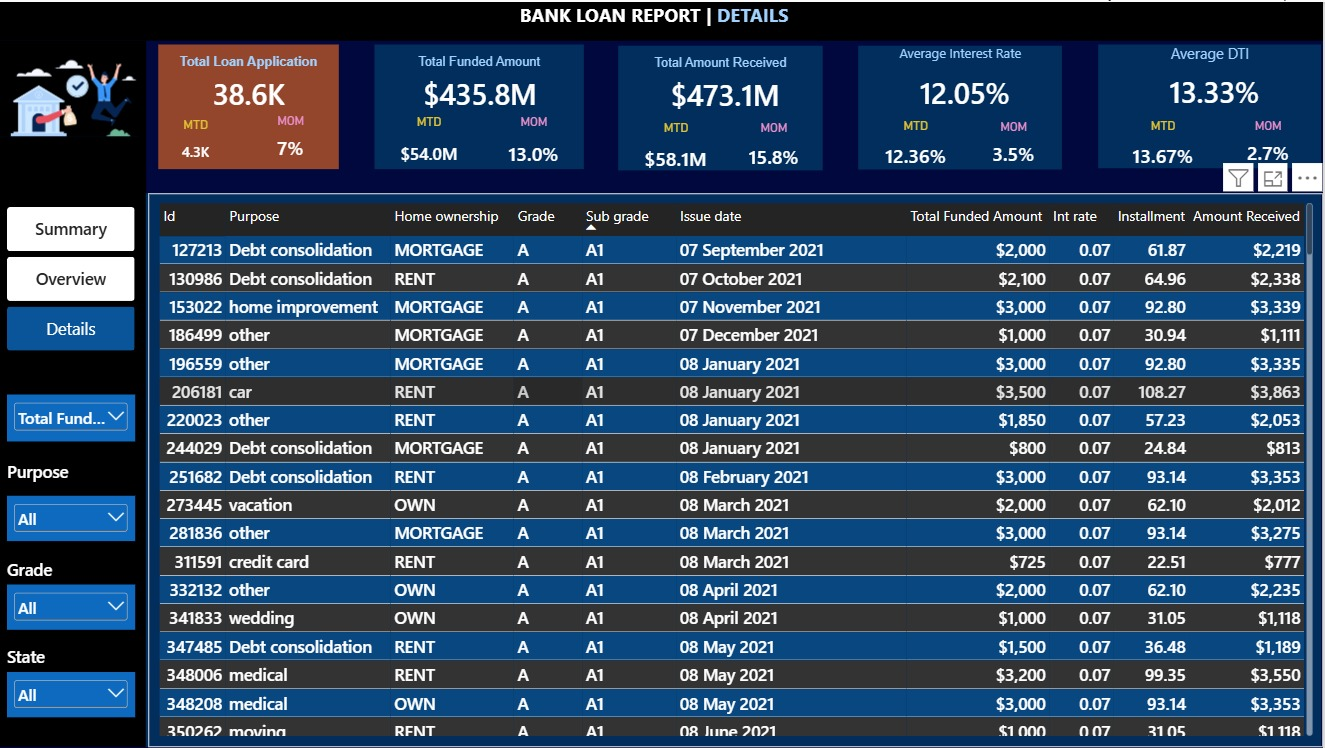

Layout of this report page (visuals, bound fields, positions):
{"tool":"powerbi","page":{"name":"Details","canvas":[1920,1080],"ordinal":2},"visuals":[{"type":"shape","box":[0,0,1920,56],"z":0},{"type":"shape","box":[0,56.8,216.2,1022.3],"z":1000},{"type":"shape","box":[216.2,277.4,1701.6,801.6],"z":2000},{"type":"textbox","box":[586,0,730,56],"z":3000},{"type":"shape","box":[1593.7,61.3,322.6,179.2],"z":3000,"group":"g5"},{"type":"shape","box":[233.7,61.4,261.4,180.4],"z":3000,"group":"g1"},{"type":"shape","box":[1246.7,62,294.9,179.2],"z":3000,"group":"g4"},{"type":"shape","box":[545.9,62.1,303,180.4],"z":3000,"group":"g2"},{"type":"shape","box":[899.8,62.9,296.1,180.4],"z":3000,"group":"g3"},{"type":"group","id":"g1","title":"Group 1","box":[233.7,61.4,261.4,180.4],"z":4000},{"type":"cardVisual","fields":{"Data":["financial_loan.Total Loan Applicaton"]},"box":[254.2,101.5,222.8,60.1],"z":4000,"group":"g1"},{"type":"cardVisual","fields":{"Data":["financial_loan.Total Funded Amount"]},"box":[569.6,102.2,258.2,60.1],"z":4000,"group":"g2"},{"type":"cardVisual","fields":{"Data":["financial_loan.Average Debt to incom"]},"box":[1625,105.7,274.5,48.7],"z":4000,"group":"g5"},{"type":"cardVisual","fields":{"Data":["financial_loan.Average Intrest Rate"]},"box":[1275.3,106.4,251,48.7],"z":4000,"group":"g4"},{"type":"cardVisual","fields":{"Data":["financial_loan.Total Amount Received"]},"box":[928.6,107.6,252,49],"z":4000,"group":"g3"},{"type":"textbox","box":[1594,60,323.5,41.7],"z":5000,"group":"g5"},{"type":"textbox","box":[1247,60.7,295.8,41.7],"z":5000,"group":"g4"},{"type":"group","id":"g2","title":"Group 1","box":[545.9,62.1,303,180.4],"z":5000},{"type":"textbox","box":[233.7,75.4,261.4,26.1],"z":5000,"group":"g1"},{"type":"textbox","box":[545.9,76.1,303,26.1],"z":5000,"group":"g2"},{"type":"textbox","box":[899.8,76.9,296.1,26.1],"z":5000,"group":"g3"},{"type":"group","id":"g3","title":"Group 1","box":[899.8,62.9,296.1,180.4],"z":6000},{"type":"cardVisual","title":"MTD","fields":{"Data":["financial_loan.MTD Funded Amount"]},"box":[549.5,163.9,150.4,76],"z":6000,"group":"g2"},{"type":"cardVisual","title":"MTD","fields":{"Data":["financial_loan.MTD Loan Applications"]},"box":[236,165.7,104.6,62.1],"z":6000,"group":"g1"},{"type":"cardVisual","title":"MTD","fields":{"Data":["financial_loan.MTD Average Debt To Income"]},"box":[1603,167.8,169.5,68.8],"z":6000,"group":"g5"},{"type":"cardVisual","title":"MTD","fields":{"Data":["financial_loan.MTD Intrest Rate"]},"box":[1251.1,168.3,159.2,68.8],"z":6000,"group":"g4"},{"type":"cardVisual","title":"MTD","fields":{"Data":["financial_loan.MTD Amount Received"]},"box":[904.2,170.8,159.8,71.8],"z":6000,"group":"g3"},{"type":"group","id":"g4","title":"Group 1","box":[1246.7,60.7,296.1,180.4],"z":7000},{"type":"cardVisual","title":"MOM","fields":{"Data":["financial_loan.MOM Loan Applications"]},"box":[372.4,161.6,104.6,62.1],"z":7000,"group":"g1"},{"type":"cardVisual","title":"MOM","fields":{"Data":["financial_loan.MOM Funded Amount"]},"box":[705.4,163.1,142.7,76],"z":7000,"group":"g2"},{"type":"cardVisual","title":"MOM","fields":{"Data":["financial_loan.MOM Average Debt to income"]},"box":[1763.7,168.7,151.5,62.3],"z":7000,"group":"g5"},{"type":"cardVisual","title":"MOM","fields":{"Data":["financial_loan.MOM Intrest Rate"]},"box":[1402.1,169.4,138.5,62.3],"z":7000,"group":"g4"},{"type":"cardVisual","title":"MOM","fields":{"Data":["financial_loan.MOM Amount Received"]},"box":[1055.5,170.8,139.5,67.7],"z":7000,"group":"g3"},{"type":"group","id":"g5","title":"Group 1","box":[1593.7,60,326.2,180.4],"z":8000},{"type":"slicer","fields":{"Values":["financial_loan.address_state"]},"box":[15.3,969.8,185.7,65.5],"z":9000},{"type":"textbox","box":[15.3,932.7,131.1,37.1],"z":10000},{"type":"slicer","fields":{"Values":["financial_loan.grade"]},"box":[15.3,843.1,185.7,65.5],"z":11000},{"type":"slicer","fields":{"Values":["financial_loan.purpose"]},"box":[15.3,714.3,185.7,65.5],"z":12000},{"type":"textbox","box":[15.3,806,185.7,37.1],"z":13000},{"type":"textbox","box":[15.3,664,185.7,50.2],"z":14000},{"type":"slicer","fields":{"Values":["Select Measure.Select Measure"]},"box":[15.3,567.9,185.7,67.7],"z":16000},{"type":"tableEx","fields":{"Values":["financial_loan.id","financial_loan.purpose","financial_loan.home_ownership","financial_loan.grade","financial_loan.sub_grade","financial_loan.issue_date","financial_loan.Total Funded Amount","Sum(financial_loan.int_rate)","Sum(financial_loan.installment)","financial_loan.Total Amount Received"]},"box":[218.4,277.4,1701.6,801.6],"z":16001},{"type":"image","box":[0,28.4,216.2,218.4],"z":16002},{"type":"pageNavigator","box":[15.3,297.1,185.7,209.7],"z":16003}]}

Visuals, with their boxes in screenshot pixels (x1, y1, x2, y2), scaled from the page's 1920x1080 canvas onto the 1325x748 screenshot:
shape: crop(0, 0, 1324, 39)
shape: crop(0, 39, 149, 747)
shape: crop(149, 192, 1323, 747)
textbox: crop(404, 0, 908, 39)
shape: crop(1100, 42, 1322, 167)
shape: crop(161, 43, 342, 167)
shape: crop(860, 43, 1064, 167)
shape: crop(377, 43, 586, 168)
shape: crop(621, 44, 825, 169)
"Group 1" group: crop(161, 43, 342, 167)
cardVisual - financial_loan.Total Loan Applicaton: crop(175, 70, 329, 112)
cardVisual - financial_loan.Total Funded Amount: crop(393, 71, 571, 112)
cardVisual - financial_loan.Average Debt to incom: crop(1121, 73, 1311, 107)
cardVisual - financial_loan.Average Intrest Rate: crop(880, 74, 1053, 107)
cardVisual - financial_loan.Total Amount Received: crop(641, 75, 815, 108)
textbox: crop(1100, 42, 1323, 70)
textbox: crop(861, 42, 1065, 71)
"Group 1" group: crop(377, 43, 586, 168)
textbox: crop(161, 52, 342, 70)
textbox: crop(377, 53, 586, 71)
textbox: crop(621, 53, 825, 71)
"Group 1" group: crop(621, 44, 825, 169)
"MTD" cardVisual: crop(379, 114, 483, 166)
"MTD" cardVisual: crop(163, 115, 235, 158)
"MTD" cardVisual: crop(1106, 116, 1223, 164)
"MTD" cardVisual: crop(863, 117, 973, 164)
"MTD" cardVisual: crop(624, 118, 734, 168)
"Group 1" group: crop(860, 42, 1065, 167)
"MOM" cardVisual: crop(257, 112, 329, 155)
"MOM" cardVisual: crop(487, 113, 585, 166)
"MOM" cardVisual: crop(1217, 117, 1322, 160)
"MOM" cardVisual: crop(968, 117, 1063, 160)
"MOM" cardVisual: crop(728, 118, 825, 165)
"Group 1" group: crop(1100, 42, 1324, 166)
slicer - financial_loan.address_state: crop(11, 672, 139, 717)
textbox: crop(11, 646, 101, 672)
slicer - financial_loan.grade: crop(11, 584, 139, 629)
slicer - financial_loan.purpose: crop(11, 495, 139, 540)
textbox: crop(11, 558, 139, 584)
textbox: crop(11, 460, 139, 495)
slicer - Select Measure.Select Measure: crop(11, 393, 139, 440)
tableEx - financial_loan.id x financial_loan.purpose: crop(151, 192, 1324, 747)
image: crop(0, 20, 149, 171)
pageNavigator: crop(11, 206, 139, 351)
